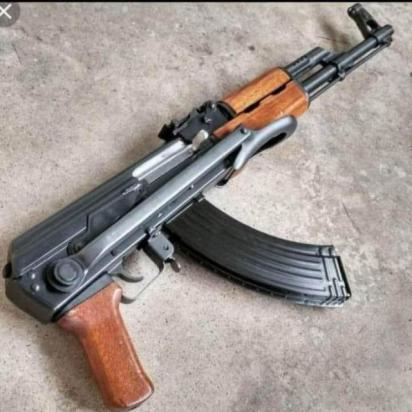Gun: (0, 2, 397, 412)
